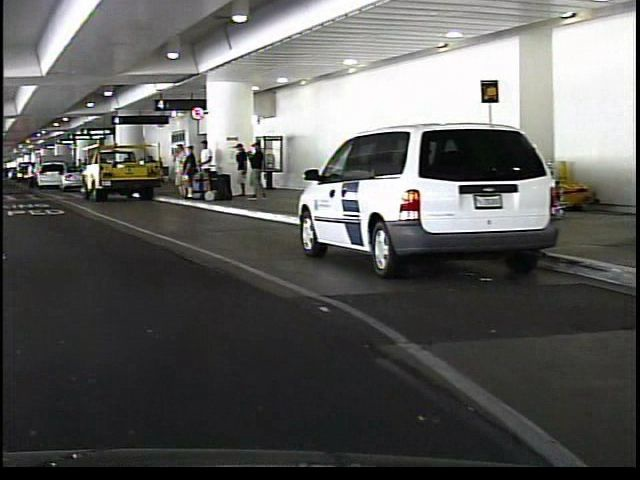person: (245, 141, 262, 203), (166, 141, 182, 200), (22, 161, 34, 191)
